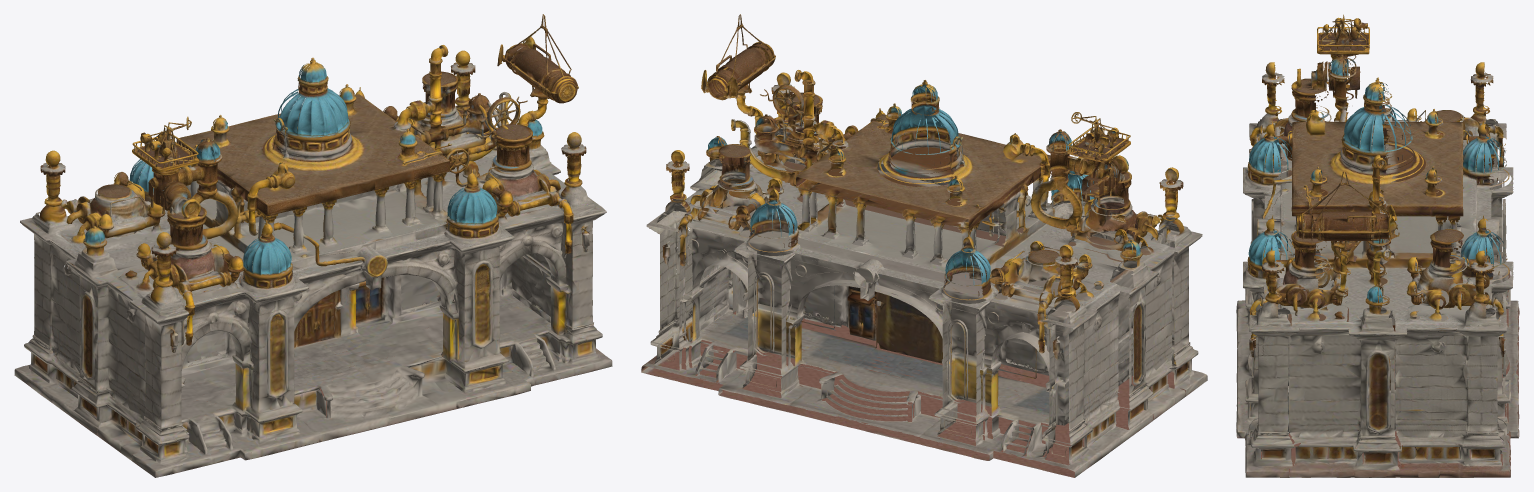
Rendered from sky_bay.glb.
The picture shows the model from 3 angles, left to right: view 1: azimuth 30°, elevation 25°; view 2: azimuth 150°, elevation 25°; view 3: azimuth 270°, elevation 25°; orthographic projection. The views are drawn at different scales.
Size of the model in its own units: 1.9 by 1.24 by 1.07.
Materials: 1 (1 with a texture image).
